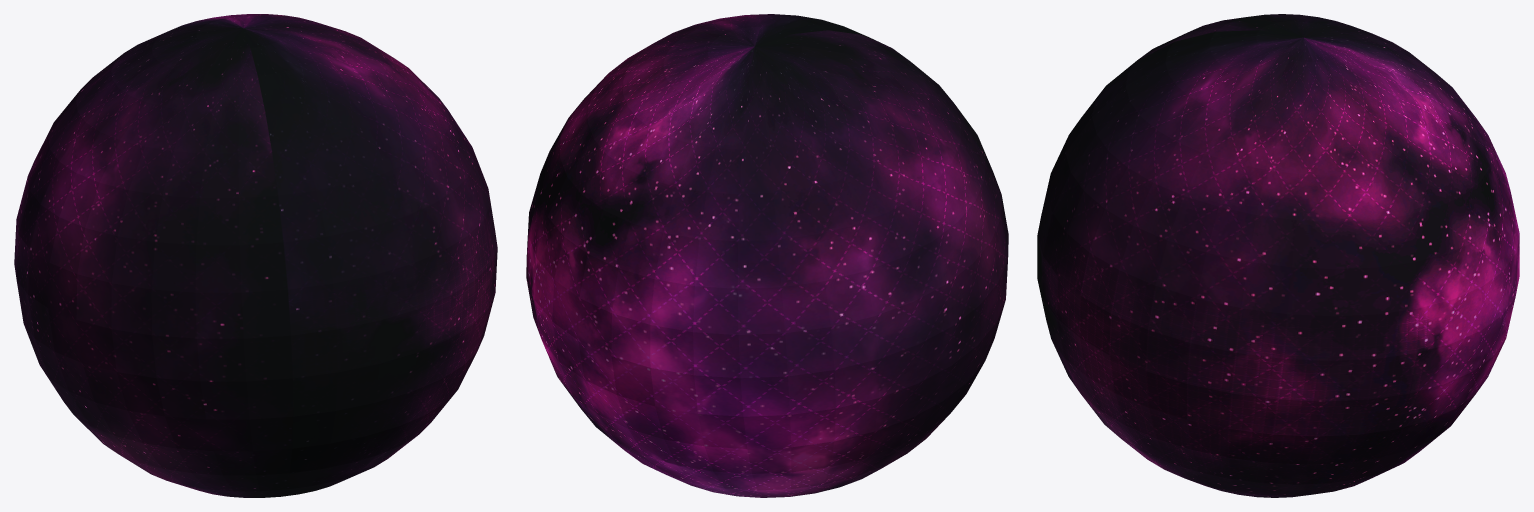
File: desk_flag_pack_free_low_poly.glb
The picture shows the model from 3 angles, left to right: view 1: azimuth 30°, elevation 25°; view 2: azimuth 150°, elevation 25°; view 3: azimuth 270°, elevation 25°; orthographic projection.
Parts seen in each view (by area): view 1: Sphere_7; view 2: Sphere_7; view 3: Sphere_7.
Boxes of the visible parts, left/top/right/bottom form: Sphere_7: left=14, top=14, right=497, bottom=497; Sphere_7: left=526, top=14, right=1008, bottom=497; Sphere_7: left=1037, top=14, right=1519, bottom=497.
Size of the model in its own units: 2309 by 2300 by 2300.
8 materials, 8 textured.
